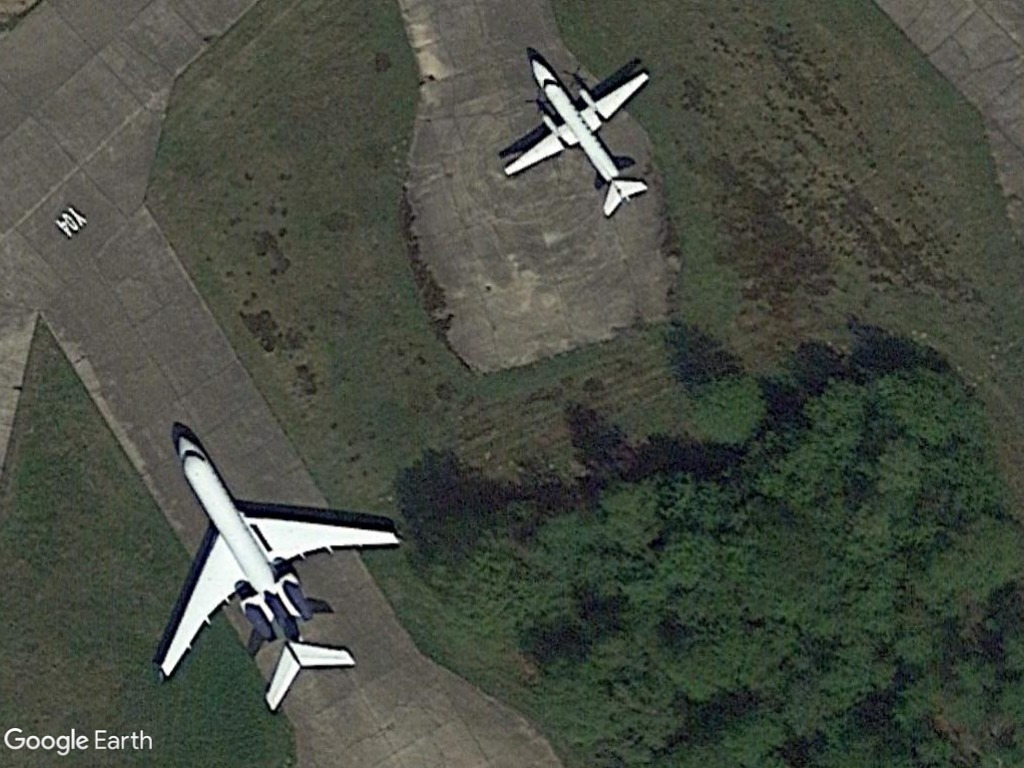chartered: (153, 427, 408, 712)
propeller: (500, 51, 655, 217)
